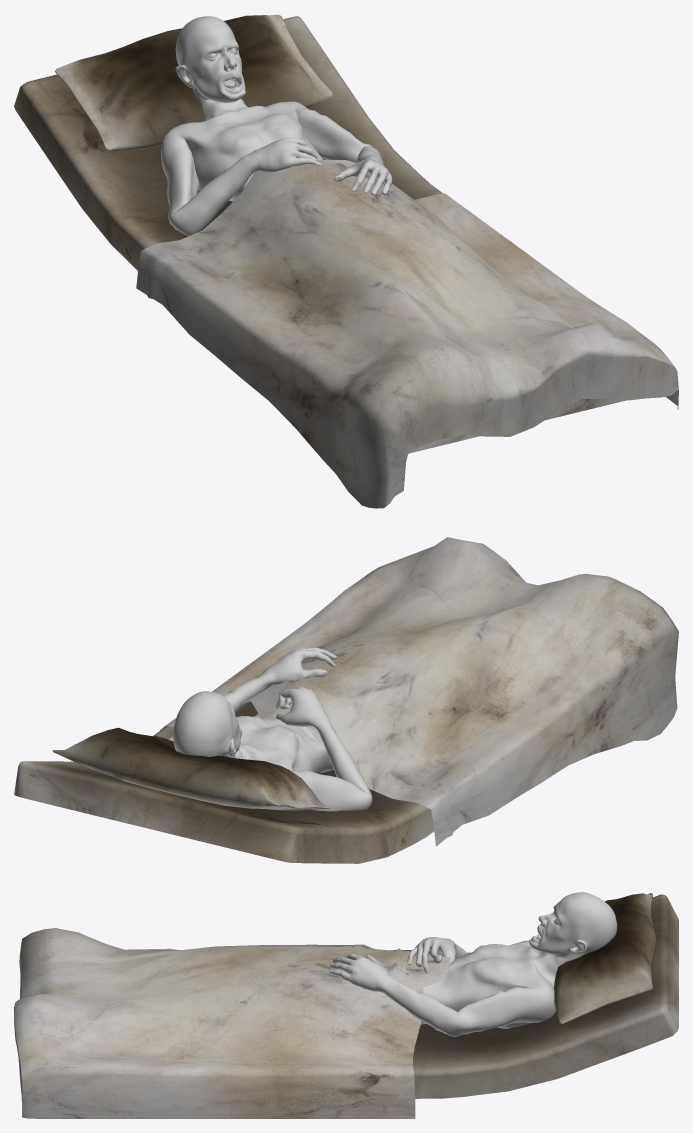
File: OldManInBed.fbx
3 views of the same model, one above another, from view 1: azimuth 30°, elevation 25°; view 2: azimuth 150°, elevation 25°; view 3: azimuth 270°, elevation 25° (orthographic). The views are drawn at different scales.
Parts seen in each view (by area): view 1: Sabana, Body, Colchon, Almohada; view 2: Sabana, Colchon, Body, Almohada; view 3: Sabana, Colchon, Body, Almohada.
Part boxes in pixels (left/top/right/bottom): Sabana: left=136, top=160, right=678, bottom=508; Body: left=161, top=16, right=392, bottom=236; Colchon: left=14, top=16, right=626, bottom=453; Almohada: left=55, top=14, right=333, bottom=151; Sabana: left=160, top=537, right=678, bottom=846; Colchon: left=14, top=701, right=434, bottom=863; Body: left=168, top=648, right=372, bottom=811; Almohada: left=52, top=727, right=329, bottom=809; Sabana: left=14, top=928, right=450, bottom=1118; Colchon: left=413, top=894, right=678, bottom=1098; Body: left=328, top=892, right=617, bottom=1036; Almohada: left=553, top=893, right=655, bottom=1023.
Bounding box in the file's own units: 93.61 × 66.41 × 205.
